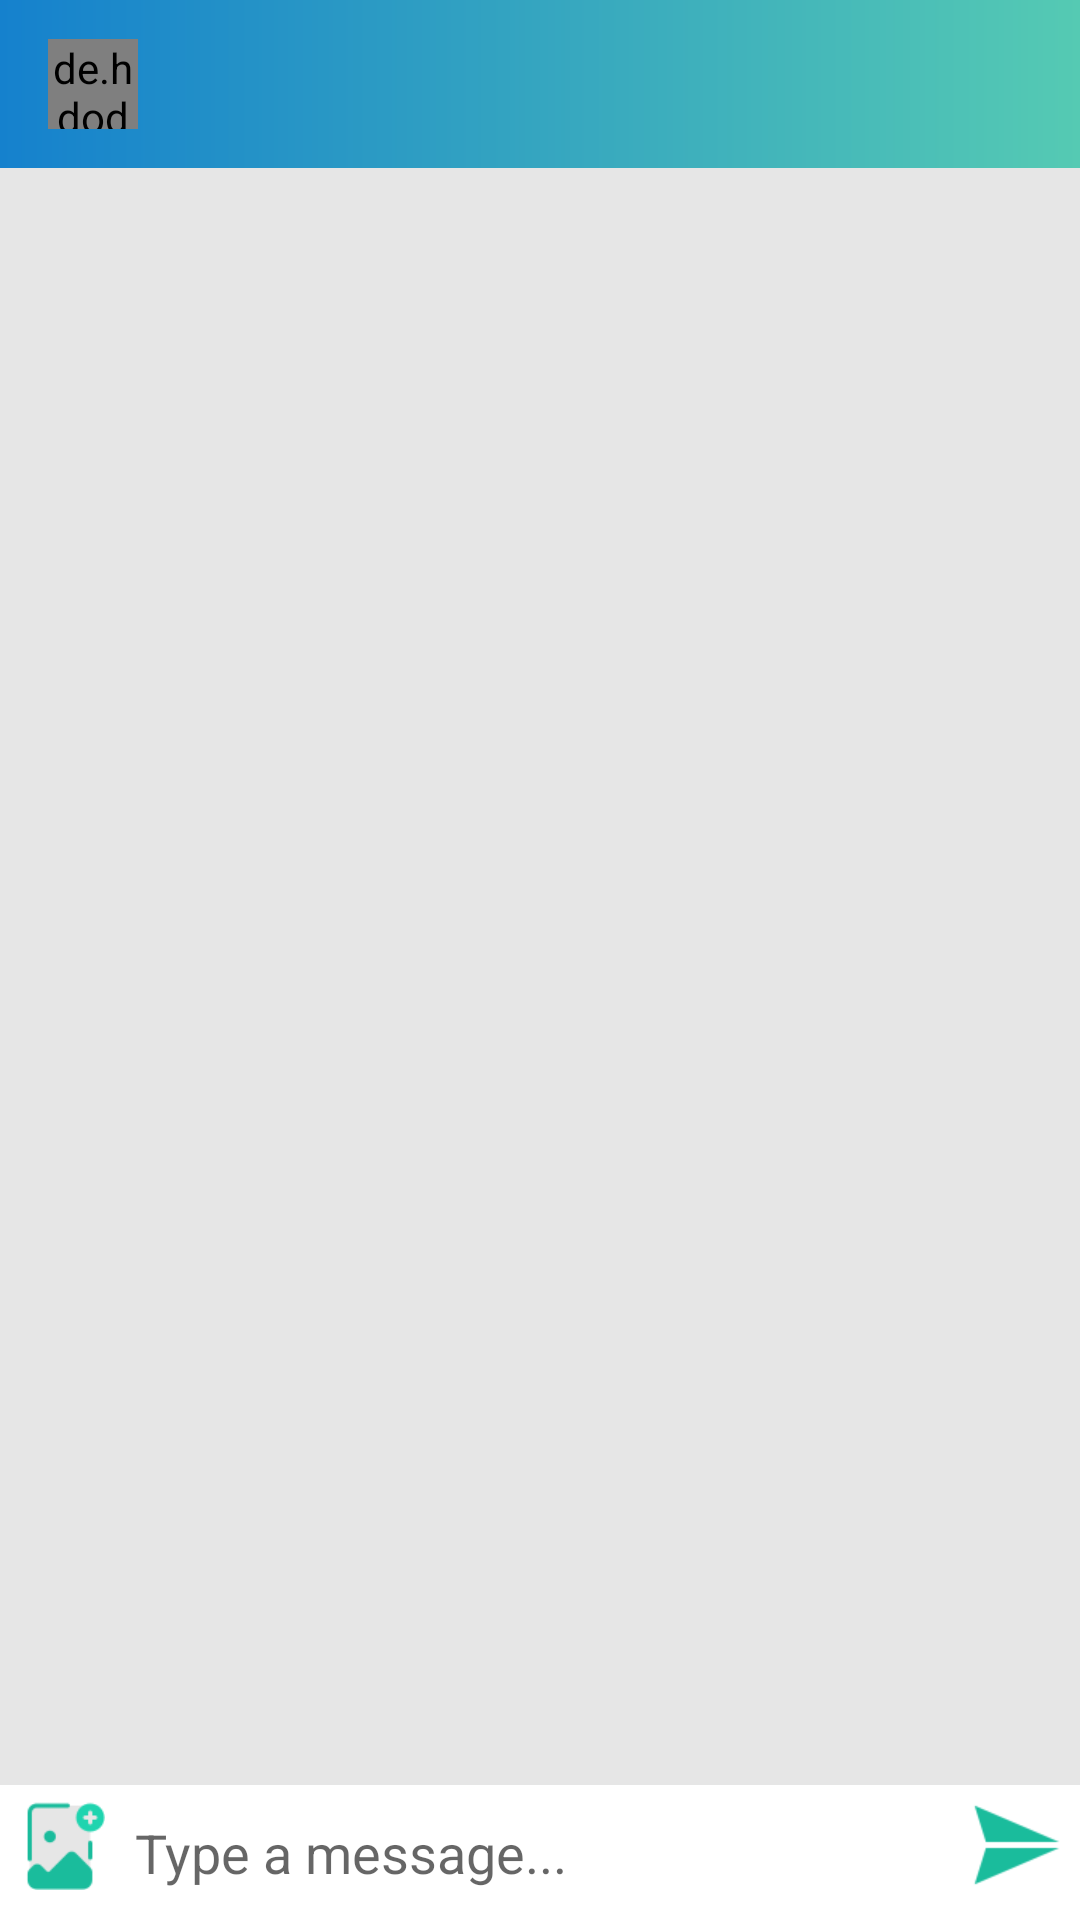

Named icons in this screenshot (1080 x 1920) and their centers, (x=x, y=y):
send: (x=1016, y=1845)
